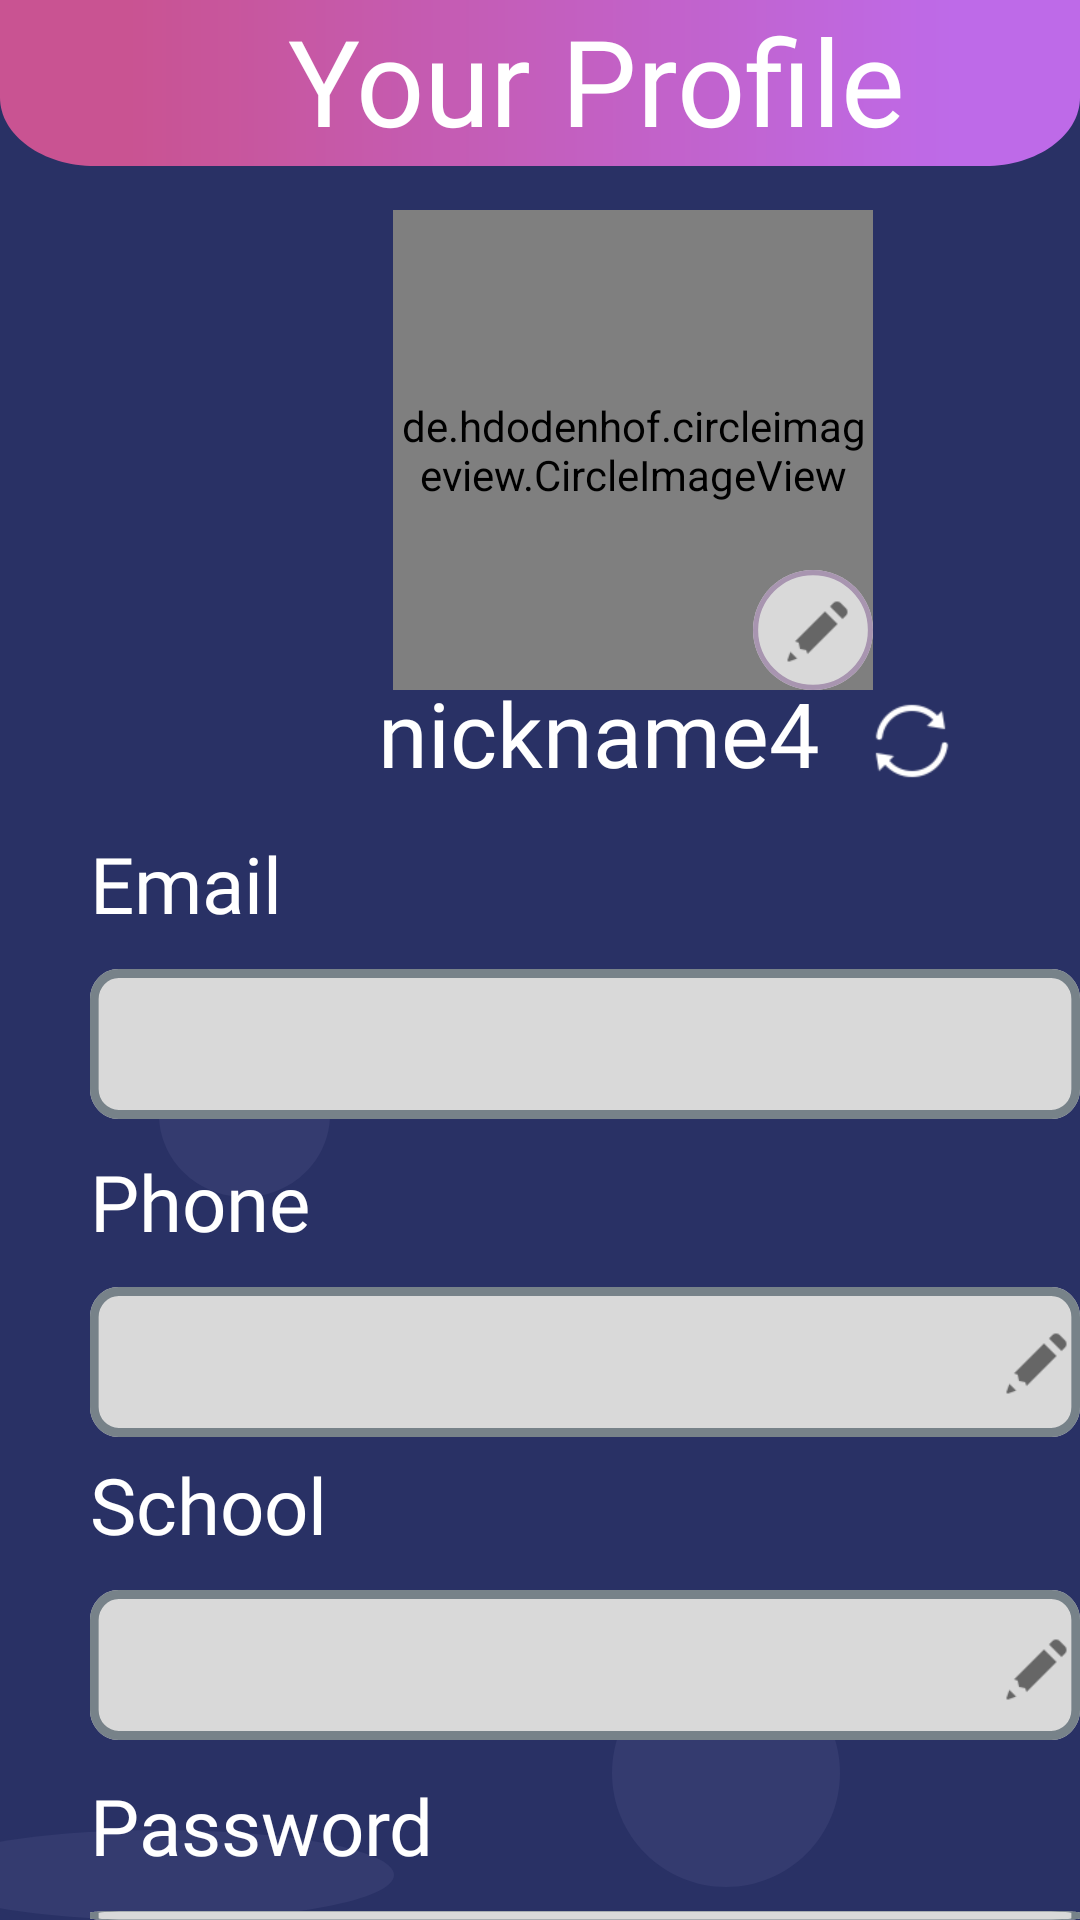

Screen size 1080 × 1920. Icon name, then its box in pixels as (x1, y1, x2, y2):
pencil: (787, 601, 848, 662), (1006, 1333, 1067, 1394), (1006, 1639, 1067, 1700)
syn: (875, 704, 949, 778)
